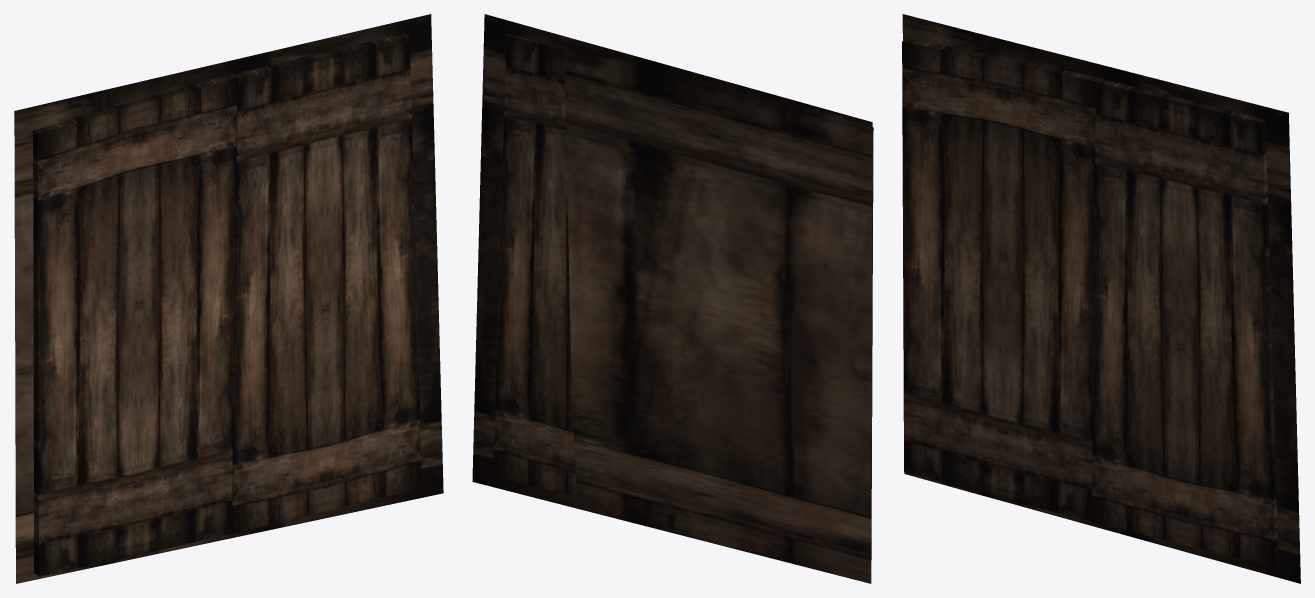
Rendered from fort_door_kings.fbx.
3 renders of one model, left to right at view 1: azimuth 30°, elevation 25°; view 2: azimuth 150°, elevation 25°; view 3: azimuth 330°, elevation 25°, orthographic. The views are drawn at different scales.
Parts seen in each view (by area): view 1: door_left, door_right, fort_doors1_high; view 2: fort_doors1_high, door_right; view 3: door_left, door_right, fort_doors1_high.
Boxes of the visible parts, <box> form: door_left: <box>33,74,237,576</box>; door_right: <box>231,33,422,533</box>; fort_doors1_high: <box>14,14,443,583</box>; fort_doors1_high: <box>472,14,872,583</box>; door_right: <box>493,34,576,496</box>; door_left: <box>902,38,1101,521</box>; door_right: <box>1091,78,1278,567</box>; fort_doors1_high: <box>902,14,1300,583</box>.
Bounding box in the file's own units: 1693 × 1859 × 86.8.
1 material, 1 textured.
